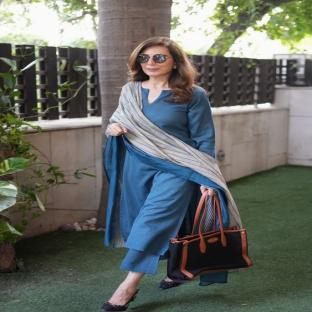Human: (103, 37, 242, 311), (160, 278, 179, 289)
